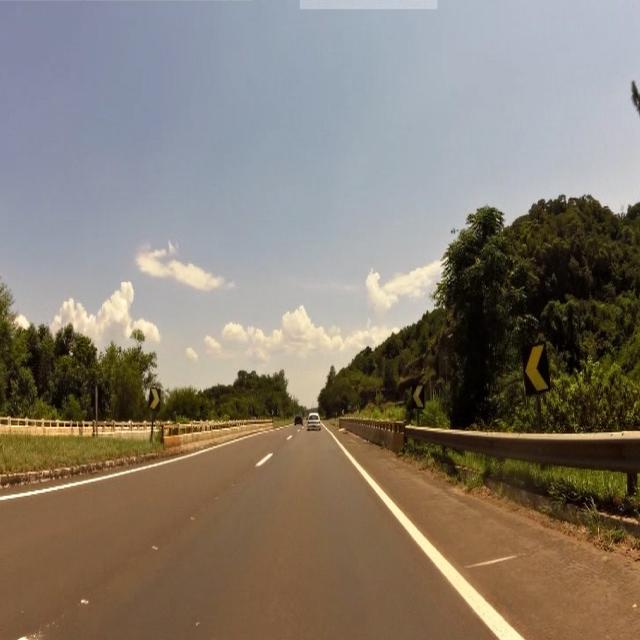Del: (519, 342, 554, 398), (151, 386, 159, 413)
